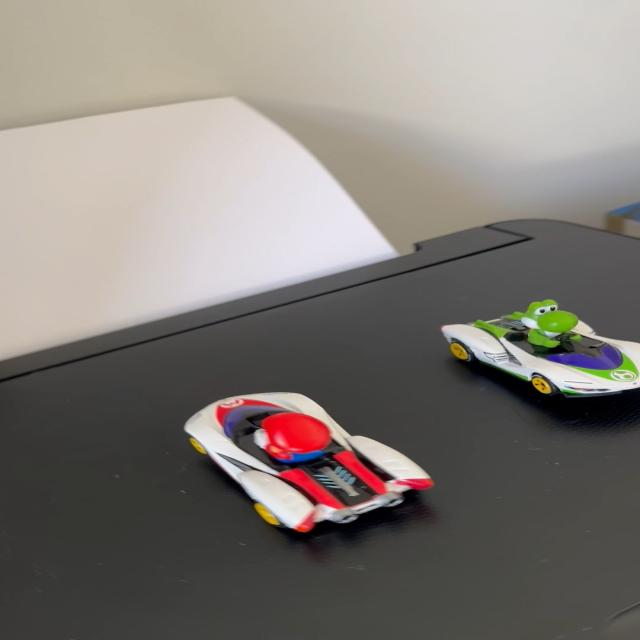mario: (175, 385, 454, 545)
yoshi: (429, 288, 640, 406)
